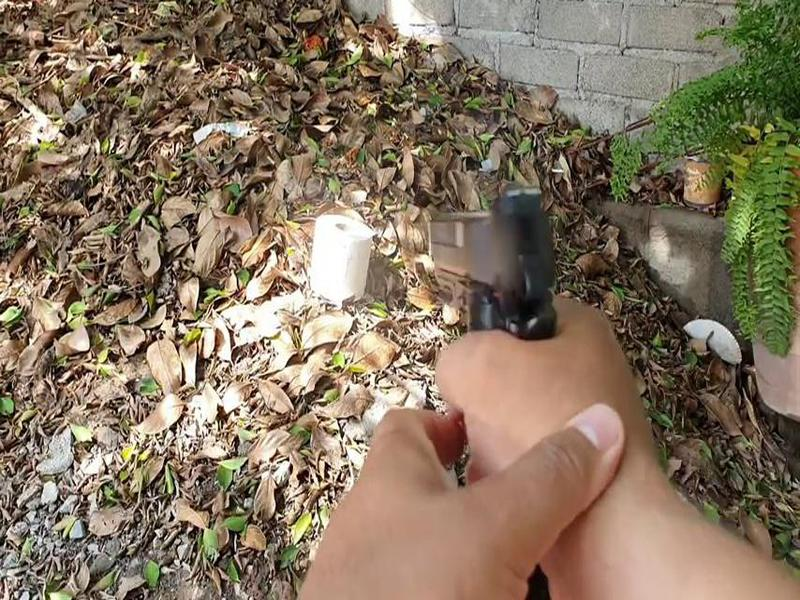Pistola: (380, 166, 582, 384)
